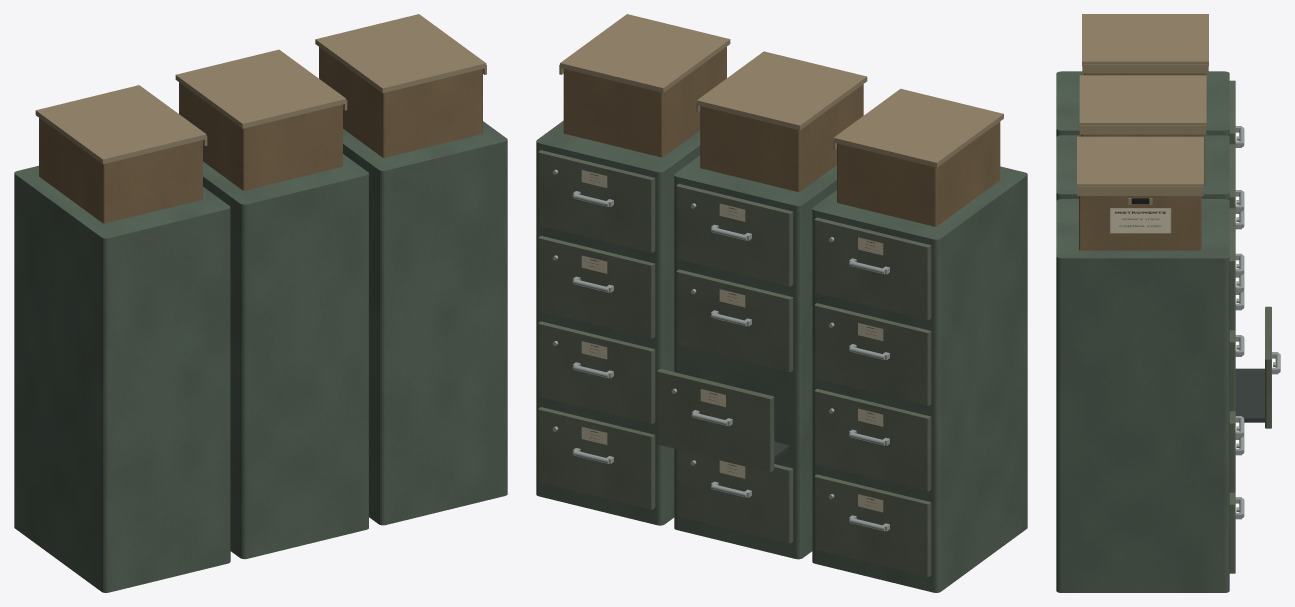
File: SM_ArchiveProps_FilingCabinets.fbx
3 views of the same model, side by side, from view 1: azimuth 30°, elevation 25°; view 2: azimuth 150°, elevation 25°; view 3: azimuth 270°, elevation 25° (orthographic). The views are drawn at different scales.
Visible parts, largest first — view 1: SM_ArchiveProps_FilingCabinets; view 2: SM_ArchiveProps_FilingCabinets; view 3: SM_ArchiveProps_FilingCabinets.
Boxes of the visible parts, left/top/right/bottom form: SM_ArchiveProps_FilingCabinets: left=14, top=14, right=507, bottom=592; SM_ArchiveProps_FilingCabinets: left=536, top=14, right=1027, bottom=592; SM_ArchiveProps_FilingCabinets: left=1056, top=14, right=1280, bottom=592.
Bounding box in the file's own units: 1.58 × 0.802 × 1.59.
